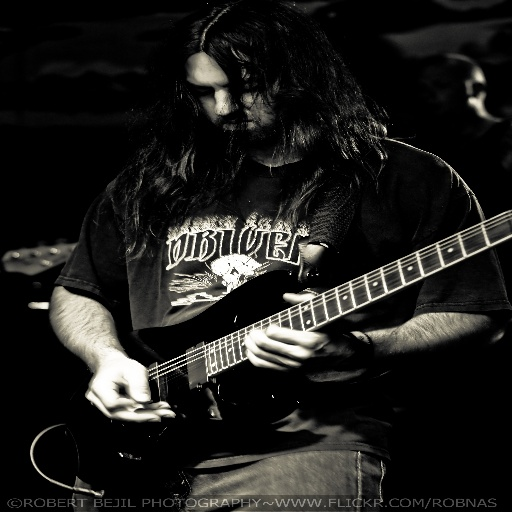hand: (238, 291, 372, 377), (69, 347, 176, 432)
